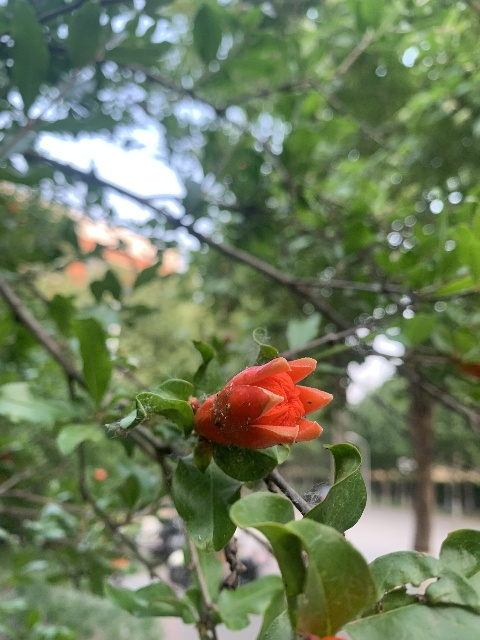flower: (193, 356, 334, 449)
